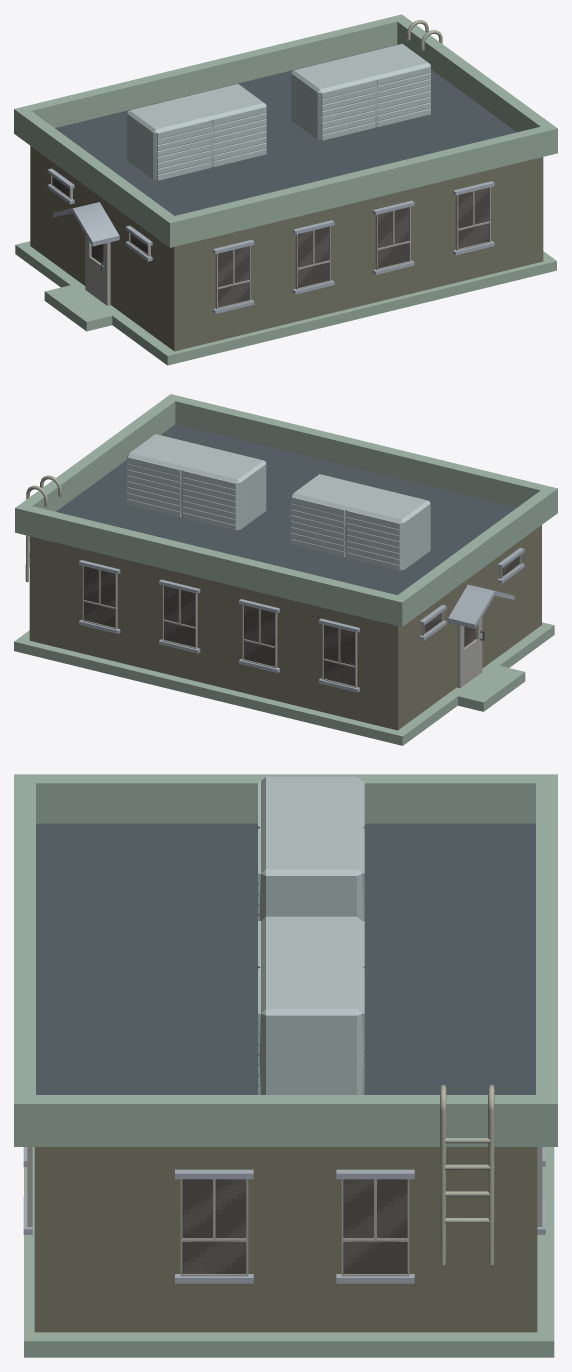
File: mini_house.fbx
3 renders of one model, top to bottom at view 1: azimuth 30°, elevation 25°; view 2: azimuth 150°, elevation 25°; view 3: azimuth 270°, elevation 25°, orthographic. The views are drawn at different scales.
Visible parts, largest first — view 1: mini_house1; view 2: mini_house1; view 3: mini_house1.
Boxes of the visible parts, x1,y1,x2,y2 form: mini_house1: [14, 14, 557, 365]; mini_house1: [14, 394, 557, 745]; mini_house1: [14, 774, 557, 1357].
Size of the model in its own units: 1852 by 719 by 1188.
